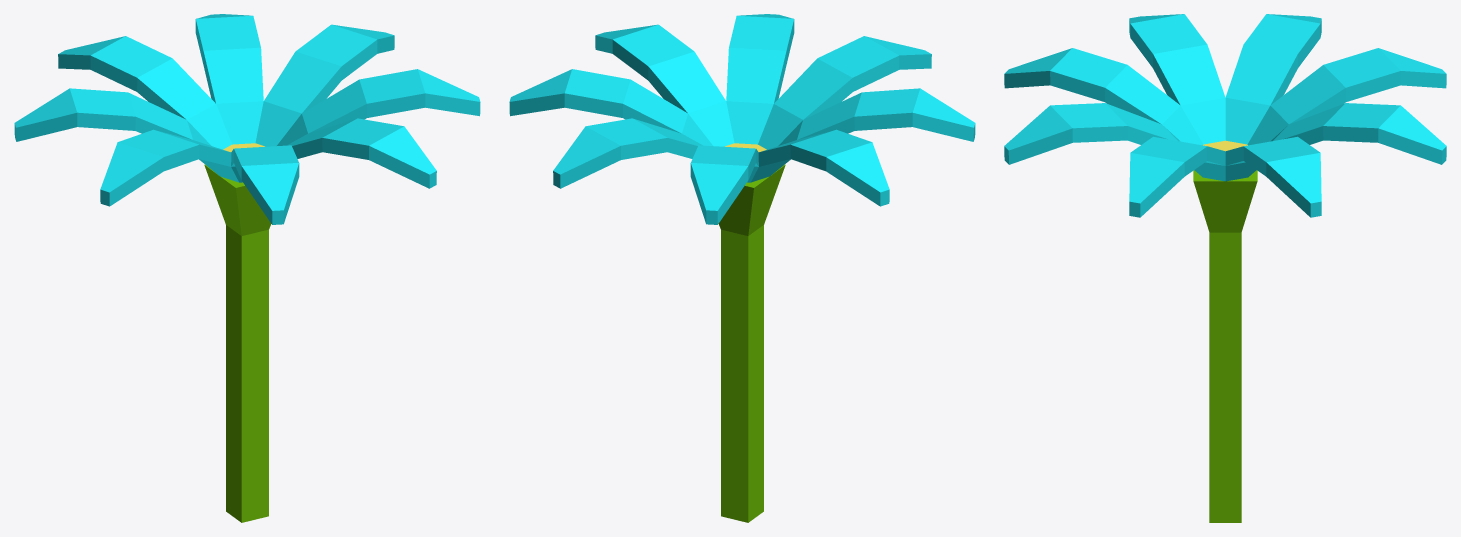
Rendered from Flower_C.fbx.
The picture shows the model from 3 angles, left to right: view 1: azimuth 30°, elevation 25°; view 2: azimuth 150°, elevation 25°; view 3: azimuth 270°, elevation 25°; orthographic projection.
Parts seen in each view (by area): view 1: Flower_01_Bloom; view 2: Flower_01_Bloom; view 3: Flower_01_Bloom.
Boxes of the visible parts, left/top/right/bottom form: Flower_01_Bloom: left=14, top=14, right=480, bottom=522; Flower_01_Bloom: left=509, top=14, right=975, bottom=522; Flower_01_Bloom: left=1004, top=14, right=1446, bottom=522.
Size of the model in its own units: 16.58 by 17.7 by 16.58.
1 material, 1 textured.
